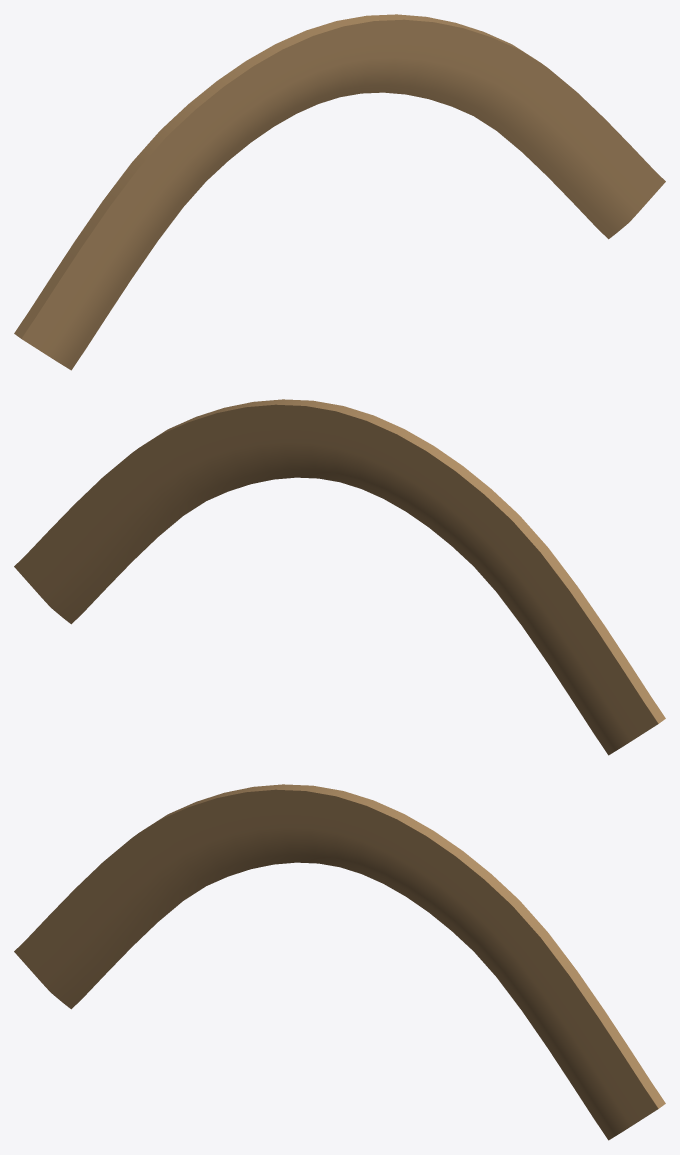
File: boomerang.glb
3 views of the same model, one above another, from view 1: azimuth 30°, elevation 25°; view 2: azimuth 150°, elevation 25°; view 3: azimuth 330°, elevation 25° (orthographic).
Visible parts, largest first — view 1: boomerang; view 2: boomerang; view 3: boomerang.
Part boxes in pixels (x1,y1,x2,y2): boomerang: (14, 14, 665, 370); boomerang: (14, 399, 665, 755); boomerang: (14, 784, 665, 1140).
Size of the model in its own units: 0.9165 by 0.3822 by 0.018.
